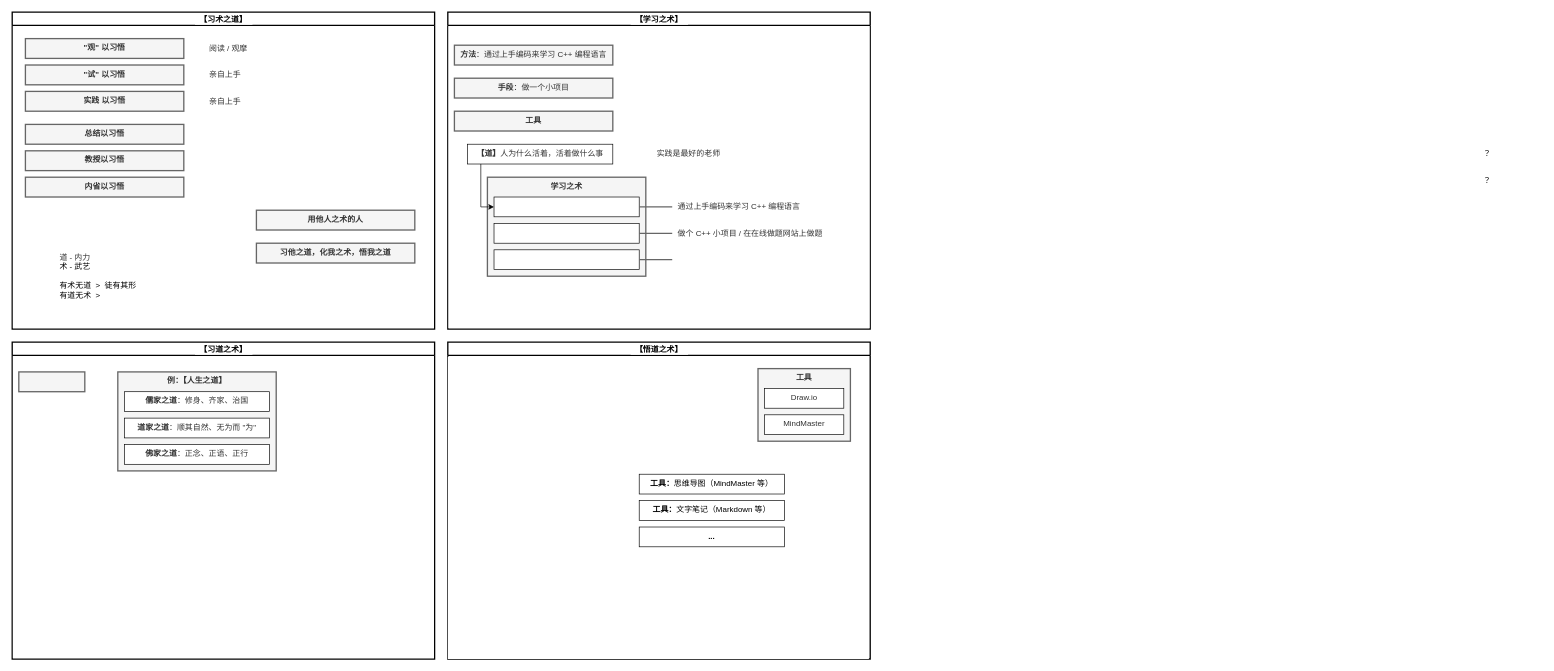
Image size: 1554x671. Some labels were removed from this diagram. The centre of each missing label's shape, as x and y in pixels:
"观": point 51,381
工具 ，回答："": point 566,259
手段 ，回答："": point 566,233
方法 ，回答："怎么学 ": point 566,206
